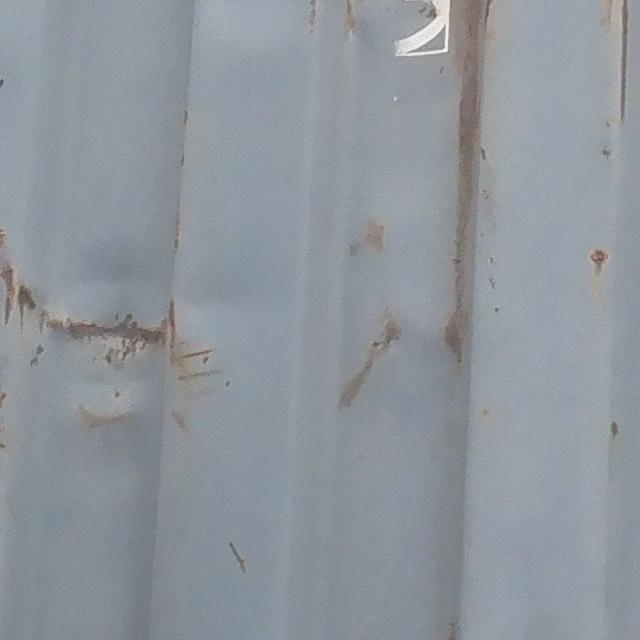Dent: (2, 241, 185, 426)
Rusty: (61, 303, 180, 359), (4, 267, 56, 361)
